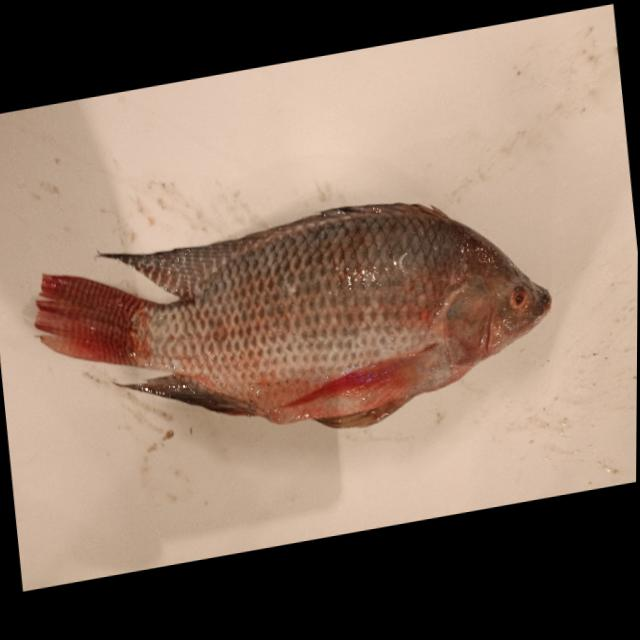Tilapia: (28, 166, 563, 483)
